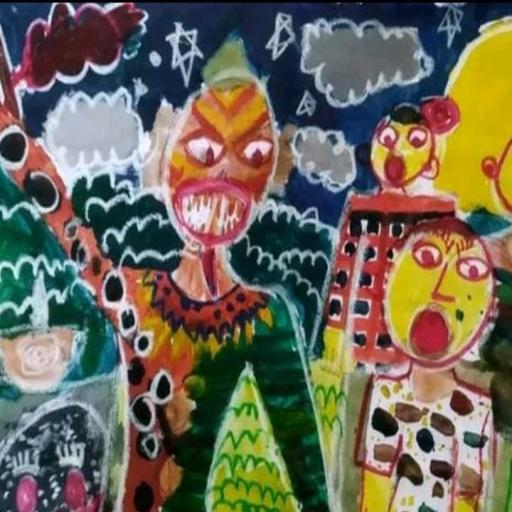person: (21, 18, 325, 511), (350, 211, 512, 511), (349, 82, 470, 207)
